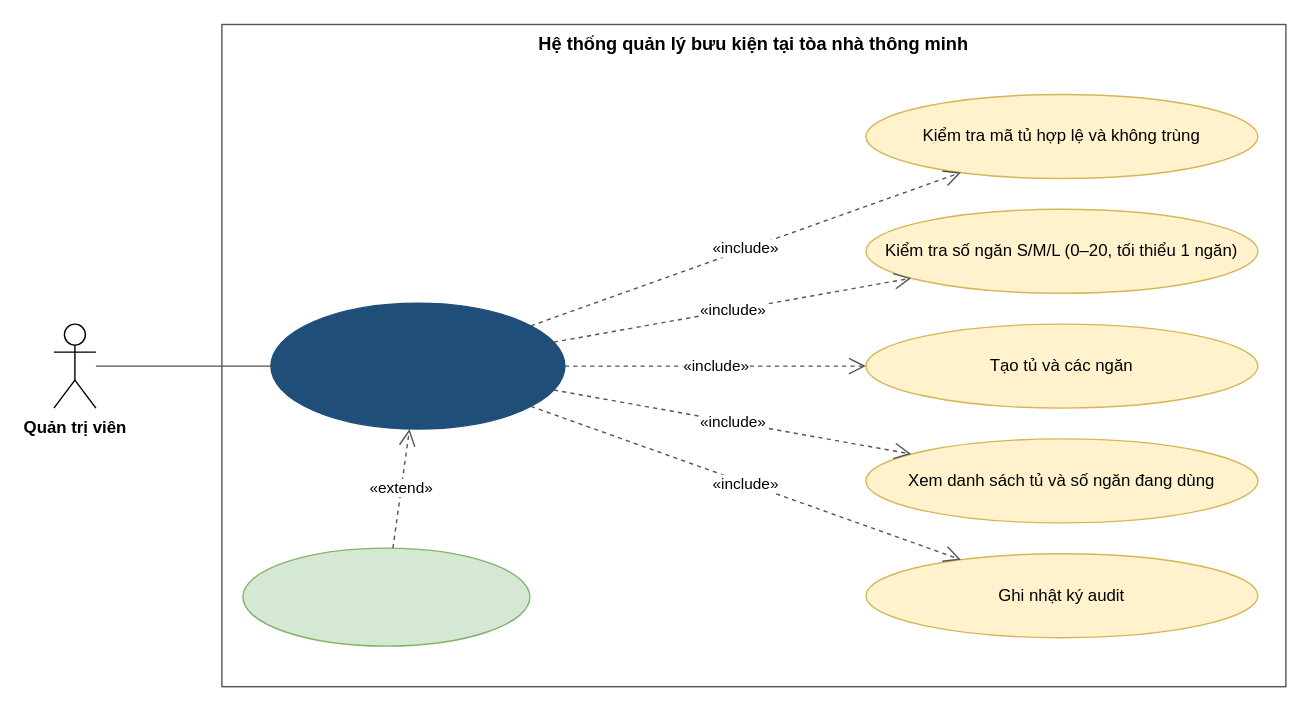
Some shapes in this 1310 by 711 pixel diagram are drawn without their labels. The shapes that lost their labels are listed below. From the top down, each one's box as (x1, y1, x2, y2) in pixels, then its label:
(270, 302, 565, 429): Quản lý tủ locker
(241, 547, 530, 646): Lưu tọa độ kinh độ, vĩ độ (PostGIS) khi có nhập
